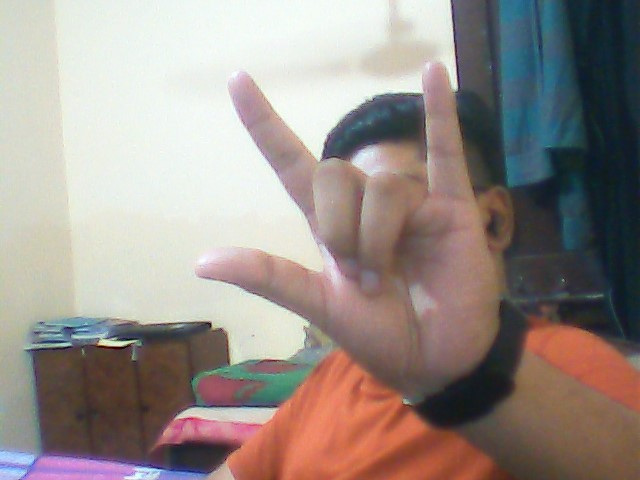Cheers: (191, 61, 499, 376)
